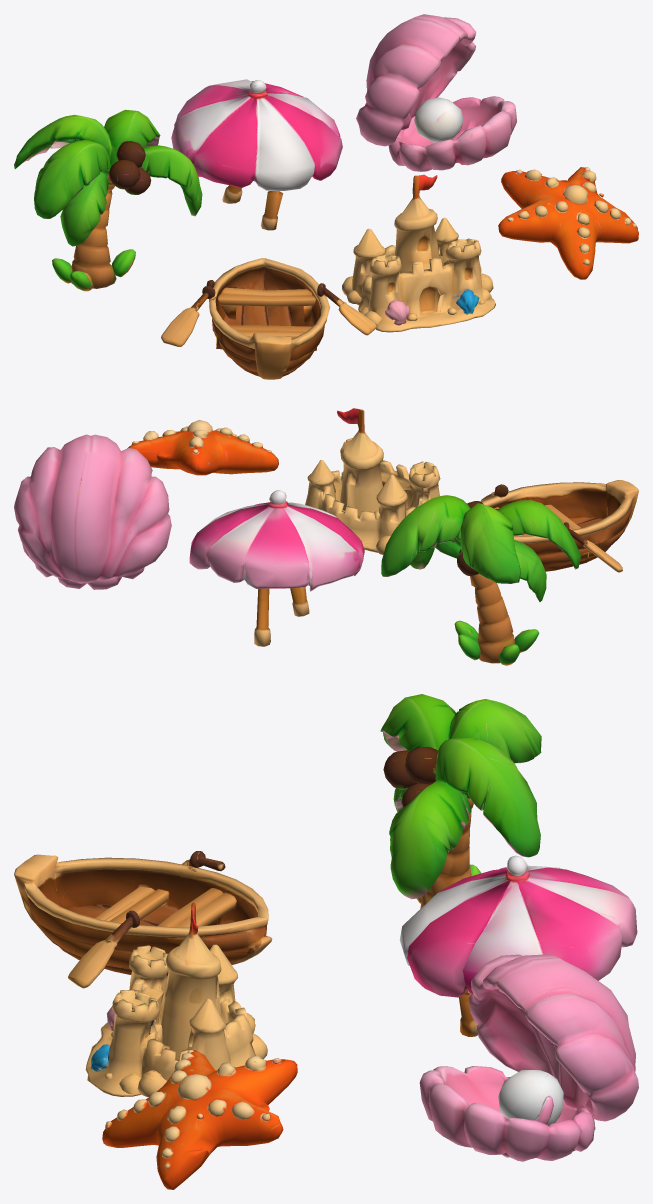
File: props_beach.glb
The picture shows the model from 3 angles, top to bottom: view 1: azimuth 30°, elevation 25°; view 2: azimuth 150°, elevation 25°; view 3: azimuth 270°, elevation 25°; orthographic projection. The views are drawn at different scales.
Bounding box in the file's own units: 0.9507 × 0.2793 × 0.75.
1 material, 1 textured.
